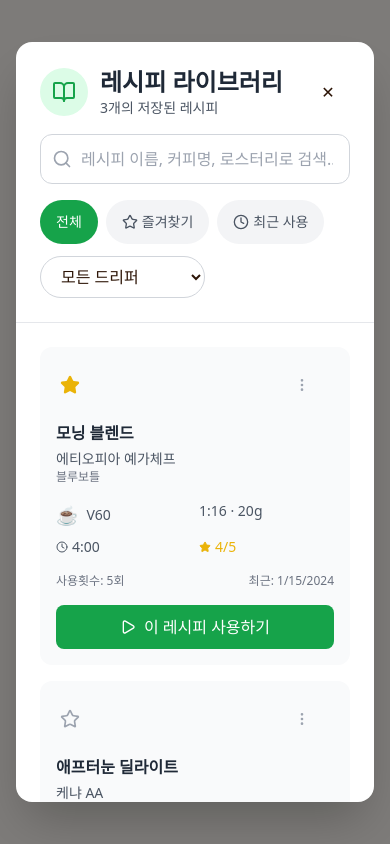
RecipeLibrary › Filter Functionality › filters by favorites
Click the button "즐겨찾기": (158, 222) [106,200,209,244]
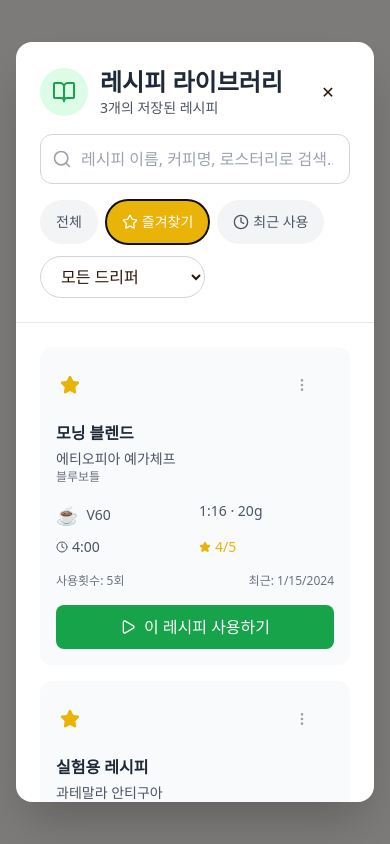
Expected: the heading "모닝 블렌드" is shown, [56,422,134,444]
Expected: the heading "실험용 레시피" is shown, [56,756,148,778]
Expected: the heading "애프터눈 딜라이트" is gone
